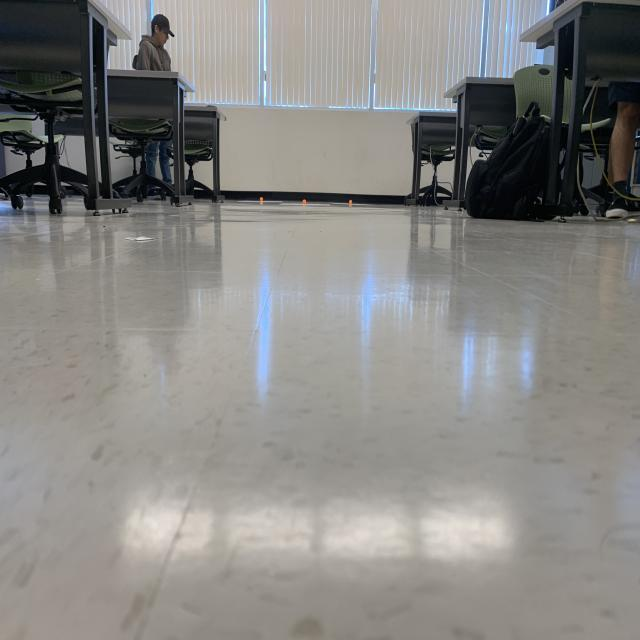ping-pong-ball: (260, 196, 264, 202), (302, 198, 306, 204), (348, 200, 352, 204)
